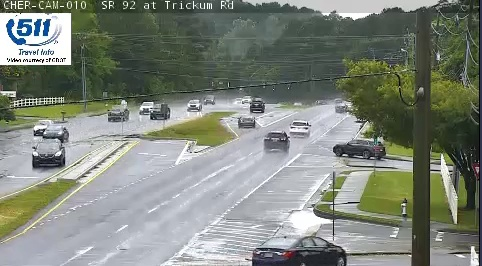car: (264, 130, 289, 149), (288, 121, 311, 136), (238, 115, 256, 127)
